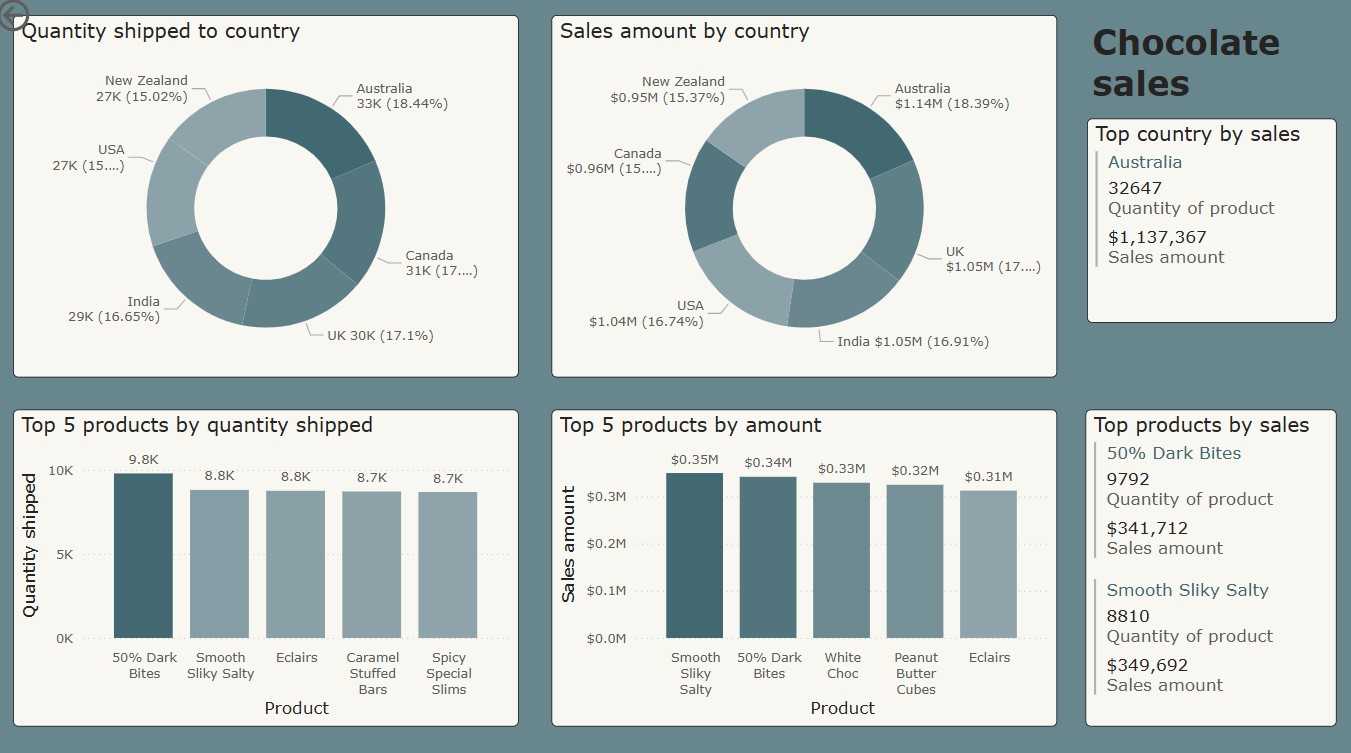

Layout of this report page (visuals, bound fields, positions):
{"tool":"powerbi","page":{"name":"Country and product","canvas":[1280,720],"ordinal":1},"visuals":[{"type":"donutChart","title":"Sales amount by country","fields":{"Category":["Chocolate Sales.Country"],"Y":["Sum(Chocolate Sales.Amount)"]},"box":[525.4,19.7,475.5,340.7],"z":0},{"type":"donutChart","title":"Quantity shipped to country","fields":{"Category":["Chocolate Sales.Country"],"Y":["Sum(Chocolate Sales.Boxes Shipped)"]},"box":[19.7,19.7,475.5,340.7],"z":1000},{"type":"actionButton","box":[0,0,100,40],"z":2000},{"type":"columnChart","title":"Top 5 products by quantity shipped","fields":{"Category":["Chocolate Sales.Product"],"Y":["Sum(Chocolate Sales.Boxes Shipped)"]},"box":[19.7,390.7,475.5,298.3],"z":3000},{"type":"columnChart","title":"Top 5 products by amount","fields":{"Category":["Chocolate Sales.Product"],"Y":["Sum(Chocolate Sales.Amount)"]},"box":[525.4,390.7,475.5,298.3],"z":4000},{"type":"multiRowCard","title":"Top country by sales","fields":{"Values":["Chocolate Sales.Country","Sum(Chocolate Sales.Boxes Shipped)","Sum(Chocolate Sales.Amount)"]},"box":[1028.9,116.6,234.9,191.7],"z":5000},{"type":"multiRowCard","title":"Top products by sales","fields":{"Values":["Chocolate Sales.Product","Sum(Chocolate Sales.Boxes Shipped)","Sum(Chocolate Sales.Amount)"]},"box":[1028.1,390.7,236.2,298.3],"z":6000},{"type":"textbox","box":[1028.9,19.2,228.5,97.5],"z":7000}]}

Visuals, with their boxes in screenshot pixels (x1, y1, x2, y2), scaled from the page's 1280x720 canvas onto the 1351x753 screenshot:
"Sales amount by country" donutChart: l=555, t=21, r=1056, b=377
"Quantity shipped to country" donutChart: l=21, t=21, r=523, b=377
actionButton: l=0, t=0, r=106, b=42
"Top 5 products by quantity shipped" columnChart: l=21, t=409, r=523, b=721
"Top 5 products by amount" columnChart: l=555, t=409, r=1056, b=721
"Top country by sales" multiRowCard: l=1086, t=122, r=1334, b=322
"Top products by sales" multiRowCard: l=1085, t=409, r=1334, b=721
textbox: l=1086, t=20, r=1327, b=122
